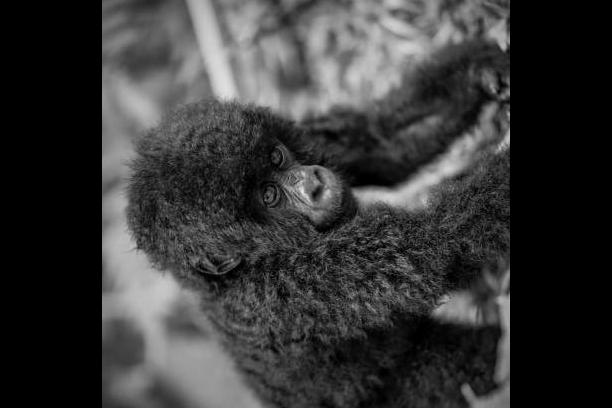goriile_montagne: (109, 48, 510, 408)
